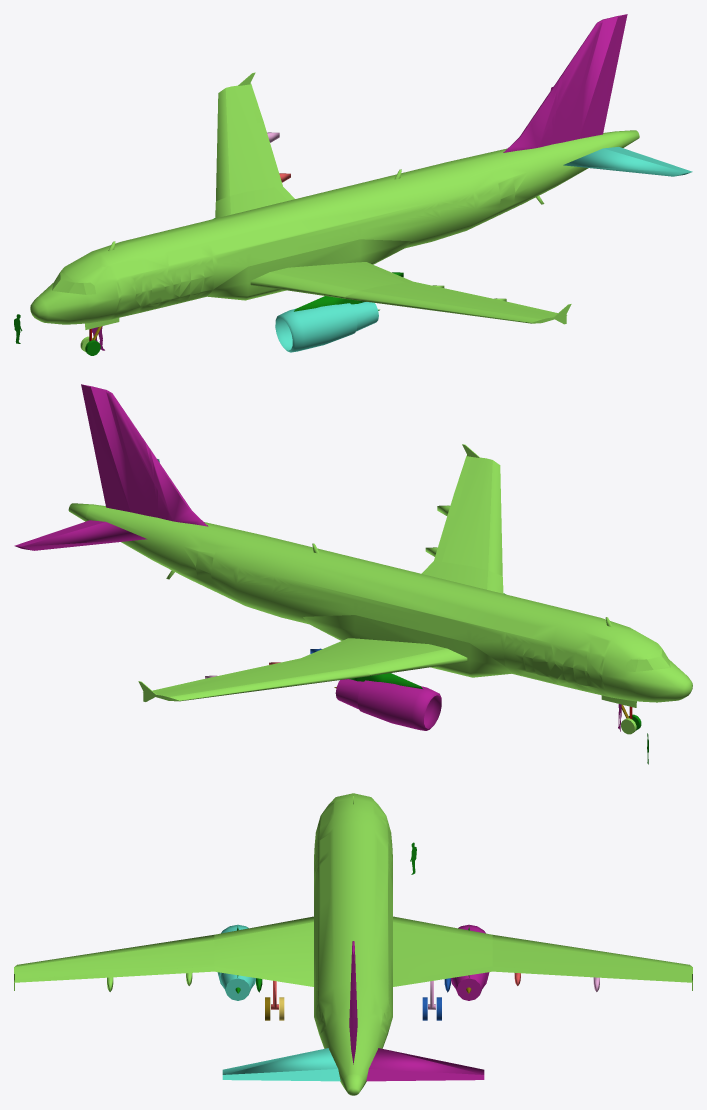
The picture shows the model from 3 angles, top to bottom: view 1: azimuth 30°, elevation 25°; view 2: azimuth 150°, elevation 25°; view 3: azimuth 270°, elevation 25°; orthographic projection. The views are drawn at different scales.
Visible parts, largest first — view 1: sketchup_download200704260804262_001, tail_001, Group_010, Group_013; view 2: sketchup_download200704260804262_001, tail_001, Group_023, Group_026; view 3: sketchup_download200704260804262_001, Group_026, Group_013, Group_023, Group_010, tail_001.
Part boxes in pixels (bbox=[...]): sketchup_download200704260804262_001: bbox=[30, 72, 639, 329]; tail_001: bbox=[503, 14, 627, 152]; Group_010: bbox=[275, 302, 378, 352]; Group_013: bbox=[563, 147, 692, 176]; sketchup_download200704260804262_001: bbox=[68, 444, 692, 707]; tail_001: bbox=[81, 384, 208, 526]; Group_023: bbox=[335, 679, 441, 730]; Group_026: bbox=[14, 520, 147, 550]; sketchup_download200704260804262_001: bbox=[14, 793, 692, 1095]; Group_026: bbox=[366, 1048, 484, 1081]; Group_013: bbox=[222, 1048, 340, 1081]; Group_023: bbox=[451, 924, 489, 1000]; Group_010: bbox=[217, 924, 255, 1000]; tail_001: bbox=[349, 941, 357, 1064].
Bounding box in the file's own units: 1046 × 344 × 946.
